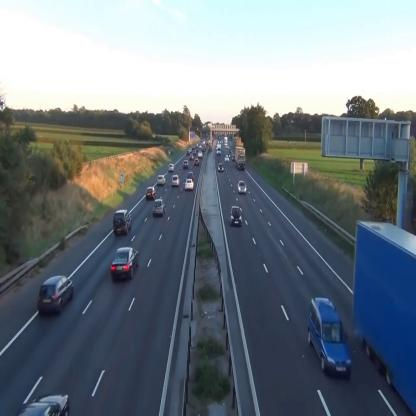car: (308, 296, 353, 378), (38, 275, 73, 316), (111, 247, 139, 279), (113, 210, 132, 234), (230, 205, 243, 226), (153, 199, 166, 218), (146, 186, 156, 200), (237, 180, 247, 194), (184, 179, 194, 191), (157, 175, 166, 186), (171, 175, 179, 187), (218, 162, 224, 173), (188, 171, 193, 181), (168, 164, 174, 172), (183, 160, 188, 168), (194, 158, 199, 166), (198, 151, 202, 158), (190, 153, 193, 160)
lorry: (236, 146, 246, 171), (216, 144, 222, 155)
